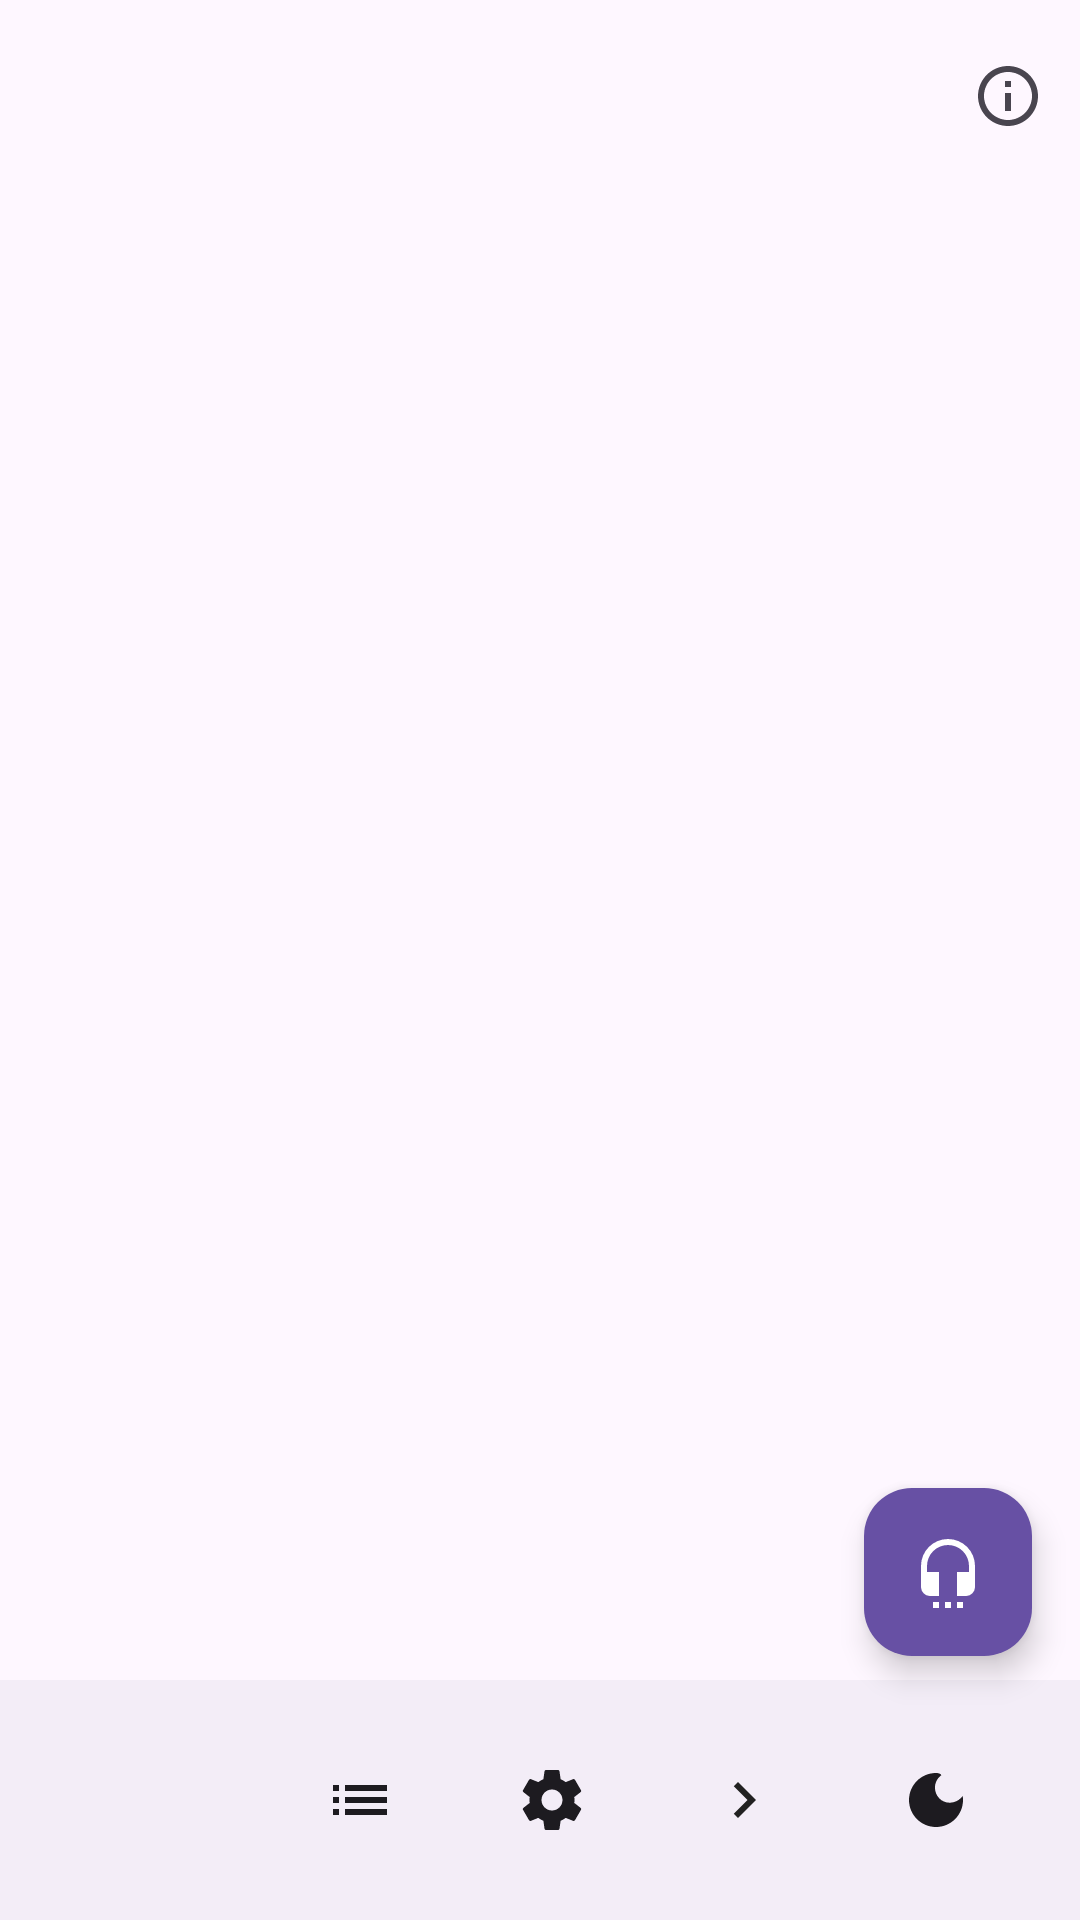

Where to tap for icons on this 1080 × 1920 app screen, as (x=x, y=y):
chevron right: (x=745, y=1800)
list: (x=360, y=1800)
moon: (x=936, y=1800)
settings: (x=551, y=1800)
Text to Speech: (x=948, y=1572)
